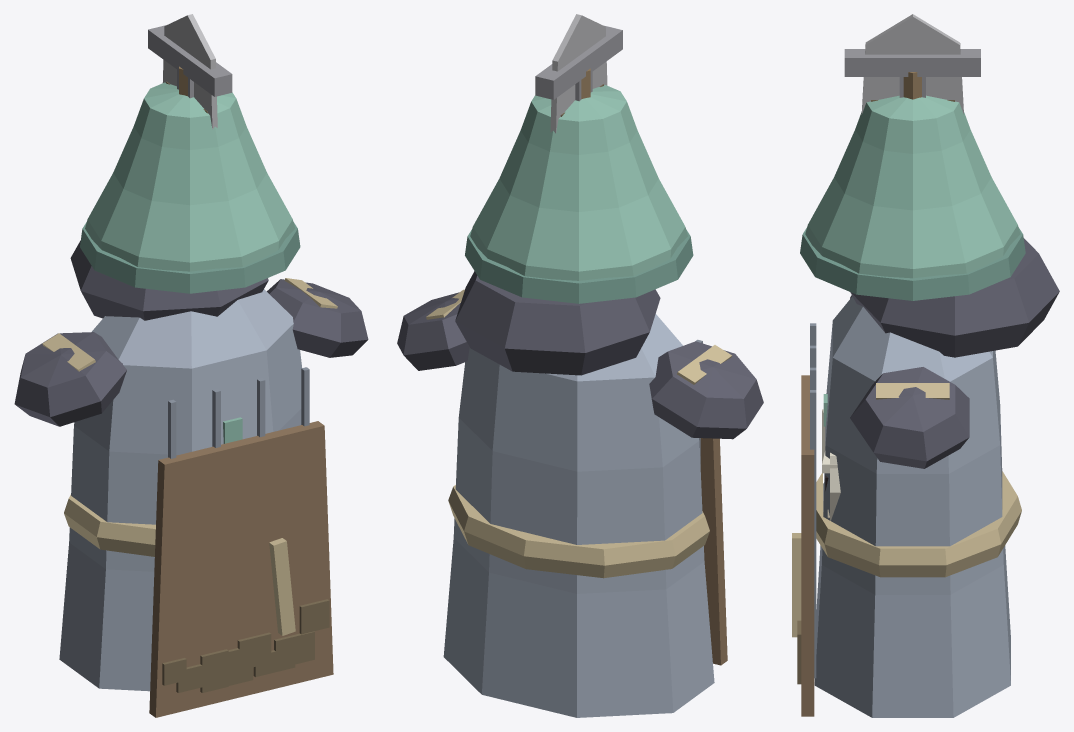
Rendered from sexton.glb.
3 renders of one model, left to right at view 1: azimuth 30°, elevation 25°; view 2: azimuth 150°, elevation 25°; view 3: azimuth 270°, elevation 25°, orthographic. The views are drawn at different scales.
Visible parts, largest first — view 1: Torso, RightHand_Bell, PauldronL, PauldronR, Weapon, LeftHand_Spade; view 2: Torso, RightHand_Bell, PauldronL, PauldronR, Weapon, LeftHand_Spade; view 3: Torso, RightHand_Bell, PauldronR, LeftHand_Spade, Weapon, Head.
Part boxes in pixels (bbox=[...]): Torso: bbox=[59, 241, 333, 717]; RightHand_Bell: bbox=[80, 70, 300, 293]; PauldronL: bbox=[14, 332, 126, 426]; PauldronR: bbox=[267, 278, 368, 357]; Weapon: bbox=[148, 25, 232, 96]; LeftHand_Spade: bbox=[162, 14, 217, 129]; Torso: bbox=[443, 271, 727, 717]; RightHand_Bell: bbox=[465, 72, 693, 303]; PauldronL: bbox=[649, 341, 763, 439]; PauldronR: bbox=[397, 289, 469, 370]; Weapon: bbox=[535, 25, 622, 99]; LeftHand_Spade: bbox=[550, 14, 607, 133]; Torso: bbox=[792, 238, 1059, 717]; RightHand_Bell: bbox=[800, 77, 1025, 300]; PauldronR: bbox=[850, 367, 969, 468]; LeftHand_Spade: bbox=[861, 14, 963, 114]; Weapon: bbox=[844, 49, 980, 99]; Head: bbox=[822, 394, 840, 520].
Bounding box in the file's own units: 0.7598 × 1.38 × 0.51.
